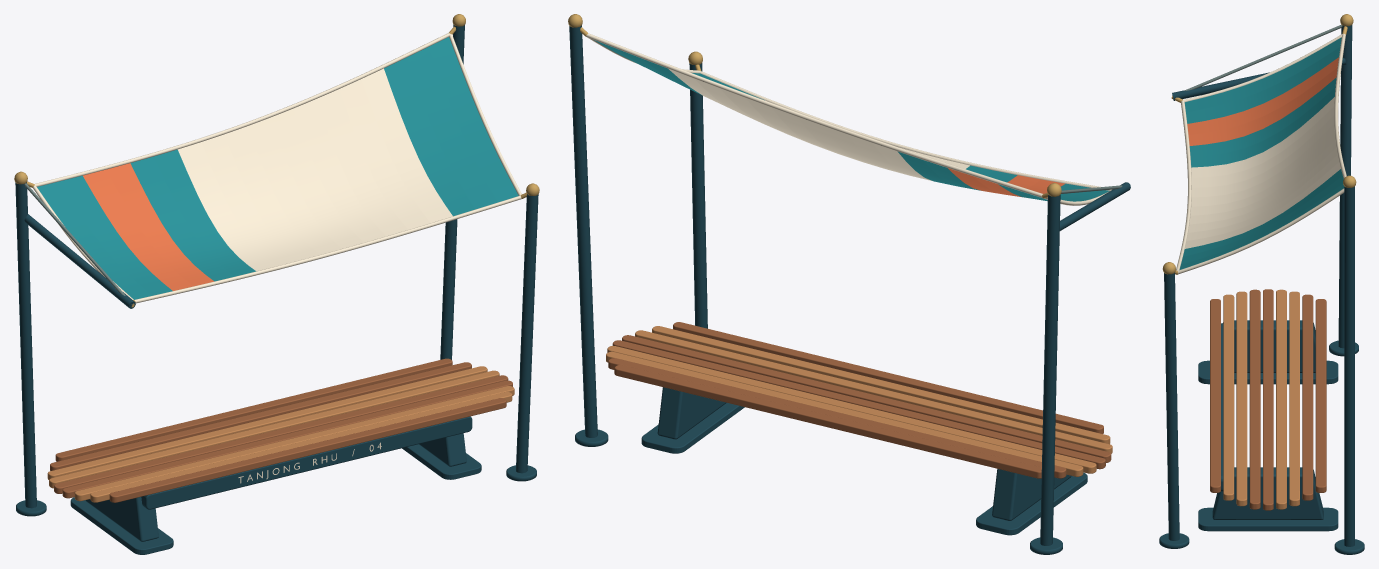
The picture shows the model from 3 angles, left to right: view 1: azimuth 30°, elevation 25°; view 2: azimuth 150°, elevation 25°; view 3: azimuth 270°, elevation 25°; orthographic projection. The views are drawn at different scales.
Parts seen in each view (by area): view 1: Rhu 04 | Atrium sail seat - Tension canopy, Rhu 04 | Atrium sail seat - Seating, Rhu 04 | Atrium sail seat - Rigging, Rhu 04 | Atrium sail seat - Seat framing, Rhu 04 | Atrium sail seat - Cabinetry, Rhu 04 | Atrium sail seat - Fittings; view 2: Rhu 04 | Atrium sail seat - Seating, Rhu 04 | Atrium sail seat - Rigging, Rhu 04 | Atrium sail seat - Tension canopy, Rhu 04 | Atrium sail seat - Seat framing, Rhu 04 | Atrium sail seat - Cabinetry, Rhu 04 | Atrium sail seat - Fittings; view 3: Rhu 04 | Atrium sail seat - Tension canopy, Rhu 04 | Atrium sail seat - Seating, Rhu 04 | Atrium sail seat - Rigging, Rhu 04 | Atrium sail seat - Seat framing, Rhu 04 | Atrium sail seat - Cabinetry, Rhu 04 | Atrium sail seat - Fittings.
Part boxes in pixels (<box>): Rhu 04 | Atrium sail seat - Tension canopy: <box>37,37,518,299</box>; Rhu 04 | Atrium sail seat - Seating: <box>47,358,514,502</box>; Rhu 04 | Atrium sail seat - Rigging: <box>14,14,539,508</box>; Rhu 04 | Atrium sail seat - Seat framing: <box>86,416,472,541</box>; Rhu 04 | Atrium sail seat - Cabinetry: <box>70,444,481,554</box>; Rhu 04 | Atrium sail seat - Fittings: <box>16,465,536,516</box>; Rhu 04 | Atrium sail seat - Seating: <box>606,322,1112,478</box>; Rhu 04 | Atrium sail seat - Rigging: <box>568,14,1130,545</box>; Rhu 04 | Atrium sail seat - Tension canopy: <box>594,40,1109,201</box>; Rhu 04 | Atrium sail seat - Seat framing: <box>657,387,1071,520</box>; Rhu 04 | Atrium sail seat - Cabinetry: <box>641,403,1087,535</box>; Rhu 04 | Atrium sail seat - Fittings: <box>575,429,1062,554</box>; Rhu 04 | Atrium sail seat - Tension canopy: <box>1179,37,1344,269</box>; Rhu 04 | Atrium sail seat - Seating: <box>1210,289,1326,510</box>; Rhu 04 | Atrium sail seat - Rigging: <box>1162,14,1356,546</box>; Rhu 04 | Atrium sail seat - Seat framing: <box>1212,320,1323,519</box>; Rhu 04 | Atrium sail seat - Cabinetry: <box>1198,360,1338,531</box>; Rhu 04 | Atrium sail seat - Fittings: <box>1159,340,1364,554</box>.
Size of the model in its own units: 3.64 by 2.99 by 1.46.
